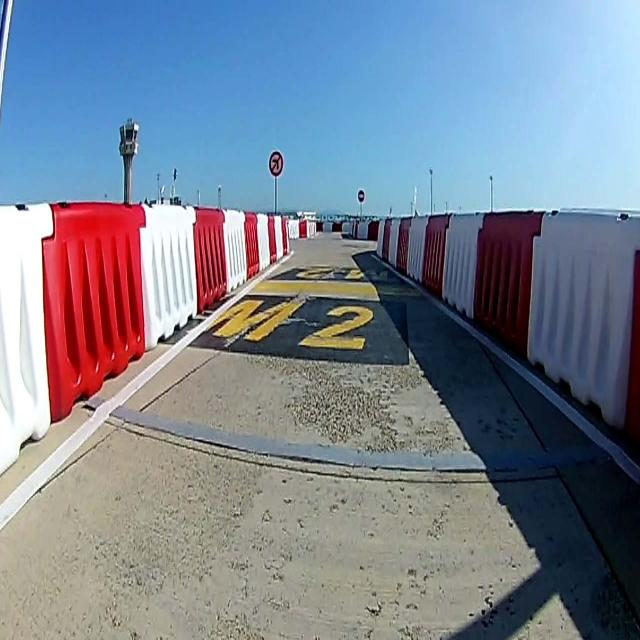soladonulmez: (269, 152, 283, 176)
